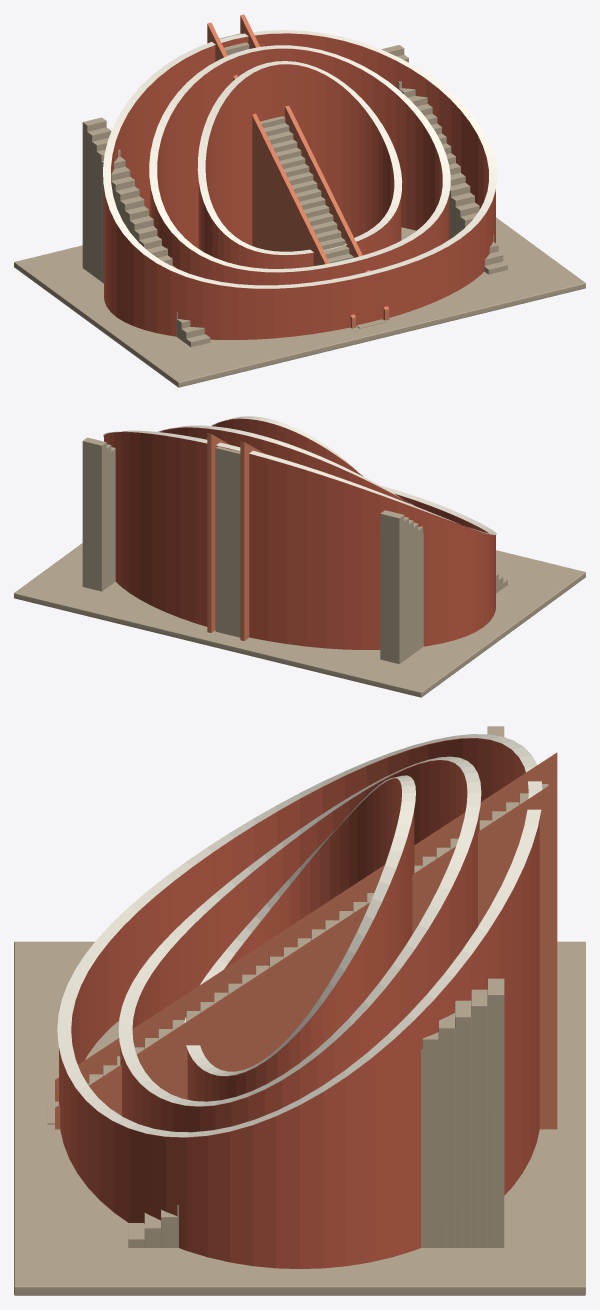
File: misra-yantra.glb
3 renders of one model, top to bottom at view 1: azimuth 30°, elevation 25°; view 2: azimuth 150°, elevation 25°; view 3: azimuth 270°, elevation 25°, orthographic. The views are drawn at different scales.
Visible parts, largest first — view 1: misra-yantra / Delhi vermilion, misra-yantra / Sandstone, misra-yantra / Chalk edges, misra-yantra / Sunlit terracotta; view 2: misra-yantra / Delhi vermilion, misra-yantra / Sandstone, misra-yantra / Sunlit terracotta, misra-yantra / Chalk edges; view 3: misra-yantra / Delhi vermilion, misra-yantra / Sandstone, misra-yantra / Sunlit terracotta, misra-yantra / Chalk edges.
Boxes of the visible parts, x1,y1,x2,y2 form: misra-yantra / Delhi vermilion: (104, 33, 495, 339); misra-yantra / Sandstone: (14, 33, 585, 387); misra-yantra / Chalk edges: (103, 30, 496, 288); misra-yantra / Sunlit terracotta: (207, 14, 389, 328); misra-yantra / Delhi vermilion: (104, 418, 495, 649); misra-yantra / Sandstone: (14, 437, 585, 697); misra-yantra / Sunlit terracotta: (207, 433, 264, 641); misra-yantra / Chalk edges: (103, 416, 496, 534); misra-yantra / Delhi vermilion: (59, 738, 539, 1268); misra-yantra / Sandstone: (14, 726, 585, 1295); misra-yantra / Sunlit terracotta: (55, 752, 557, 1129); misra-yantra / Chalk edges: (57, 734, 542, 1137).
Size of the model in its own units: 20 by 9.6 by 14.
